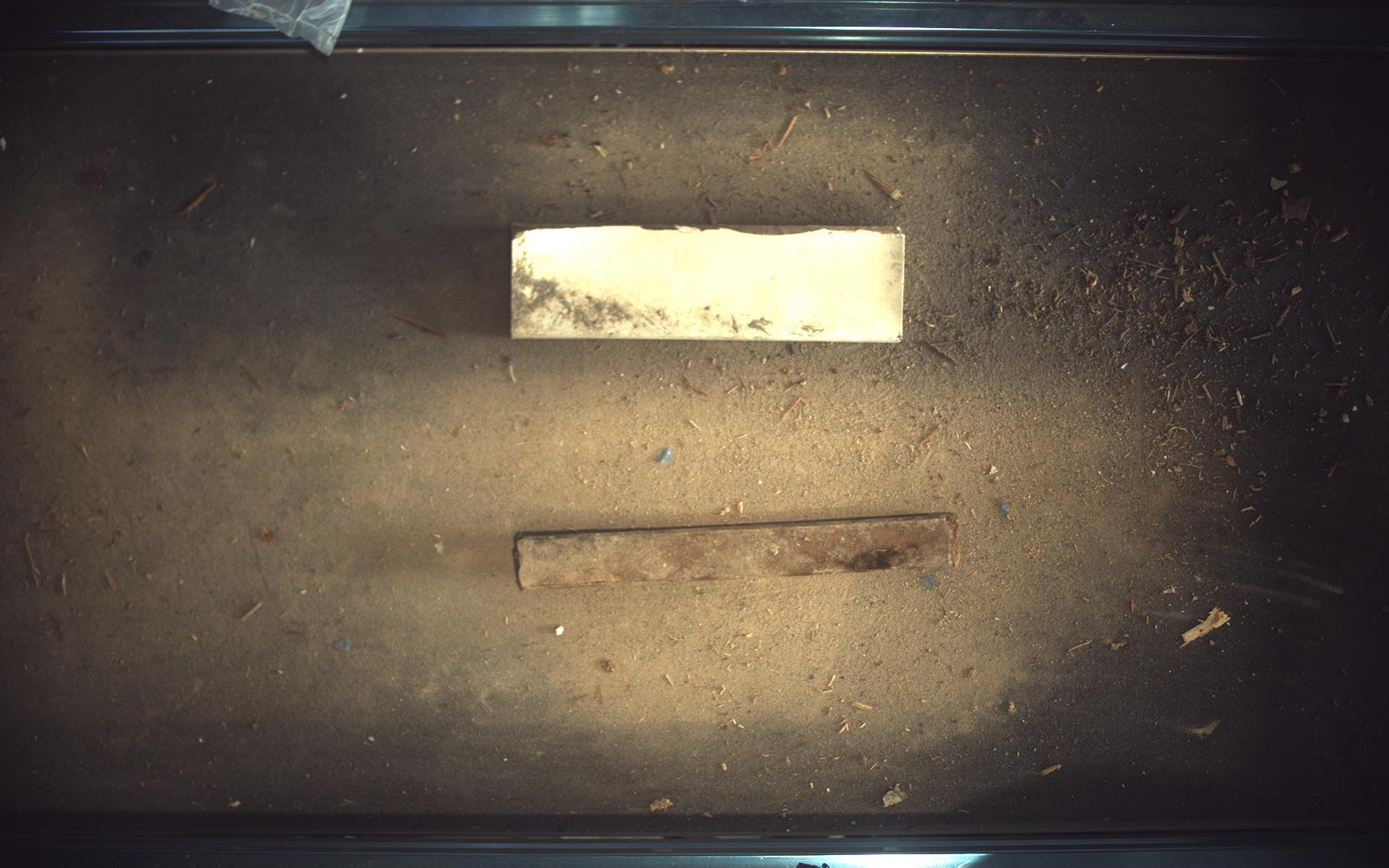wood: (511, 225, 907, 342), (515, 514, 959, 590)
